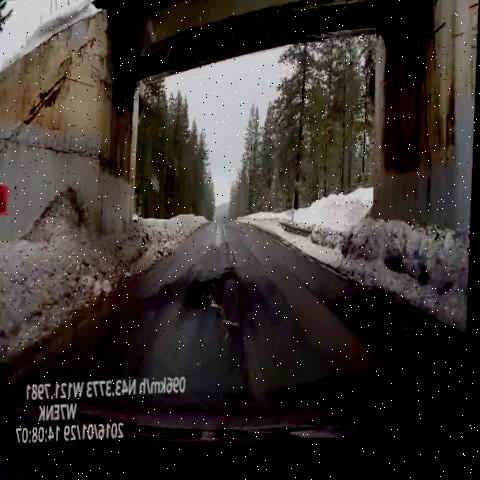pothole: (191, 259, 259, 349)
